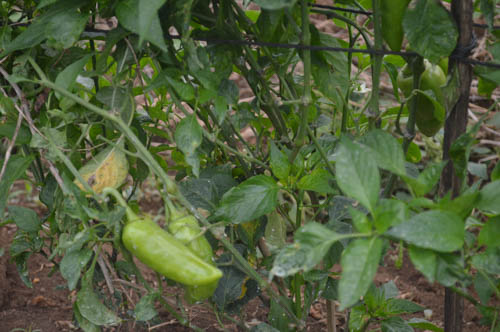ChiliPepper: (126, 220, 223, 281), (177, 217, 220, 300), (404, 70, 449, 139)
